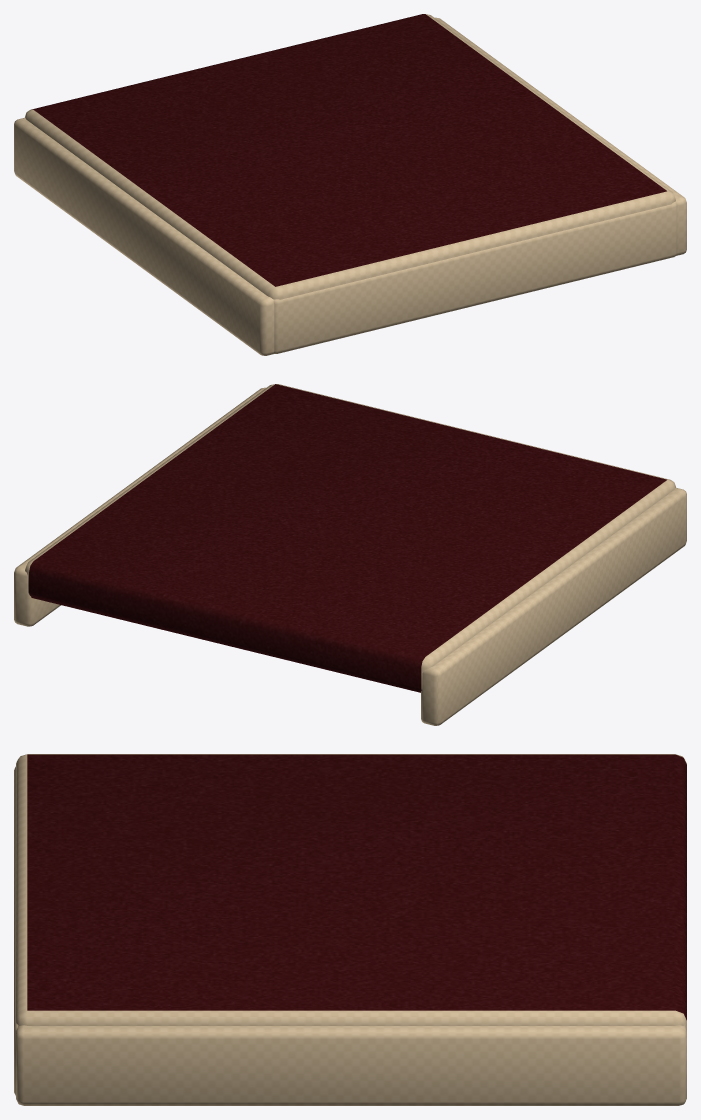
File: modern_bedspread_03.glb
The picture shows the model from 3 angles, top to bottom: view 1: azimuth 30°, elevation 25°; view 2: azimuth 150°, elevation 25°; view 3: azimuth 270°, elevation 25°; orthographic projection. The views are drawn at different scales.
Parts seen in each view (by area): view 1: modern_bedspread_03; view 2: modern_bedspread_03; view 3: modern_bedspread_03.
Boxes of the visible parts, x1,y1,x2,y2 form: modern_bedspread_03: [14, 14, 686, 355]; modern_bedspread_03: [14, 384, 686, 725]; modern_bedspread_03: [14, 754, 686, 1105].
Bounding box in the file's own units: 1.72 × 0.25 × 1.75.
2 materials, 2 textured.
